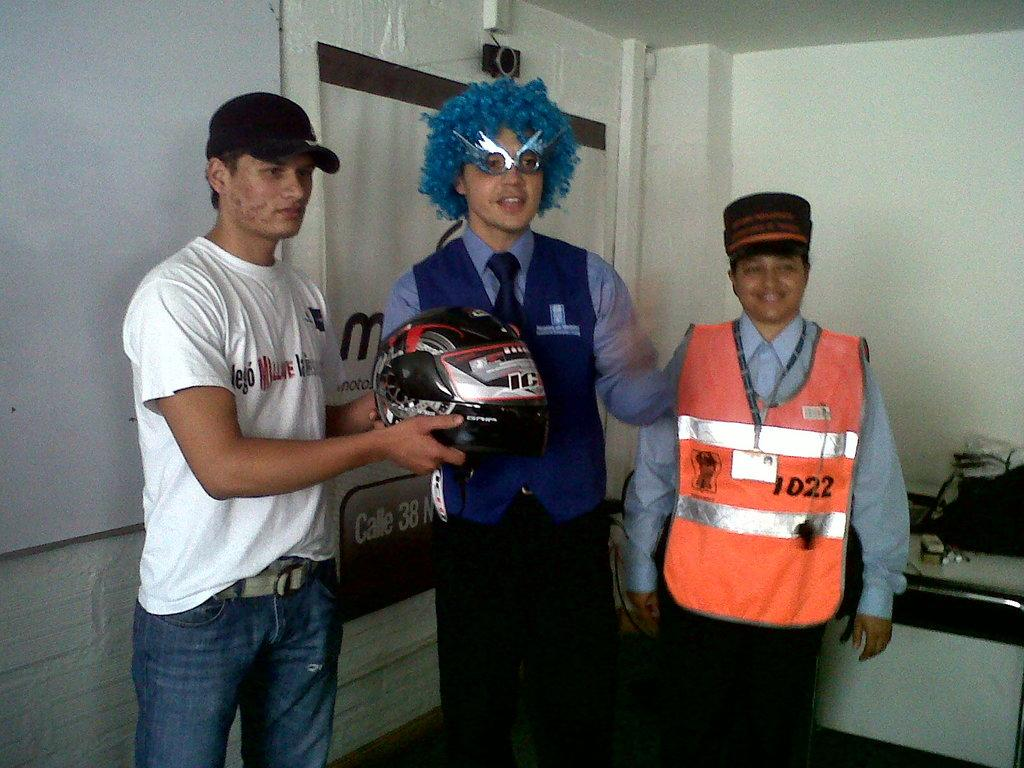helmet: (371, 305, 550, 457)
nohelmet: (423, 75, 578, 237), (204, 90, 342, 245), (721, 190, 815, 326)
